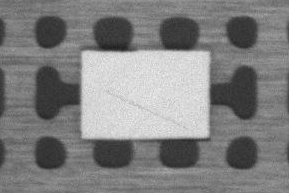DIE_CRACK: (157, 61, 280, 85)
